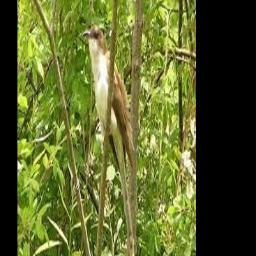Cuckoo: (82, 24, 135, 256)
